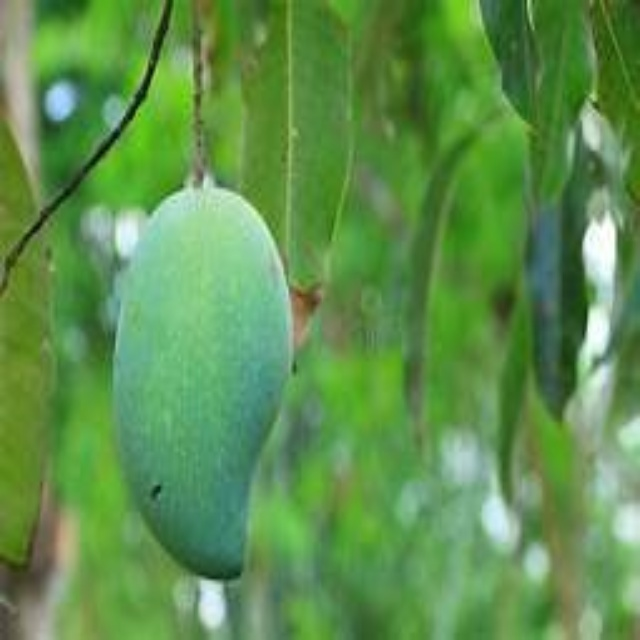mango: (115, 185, 285, 580)
